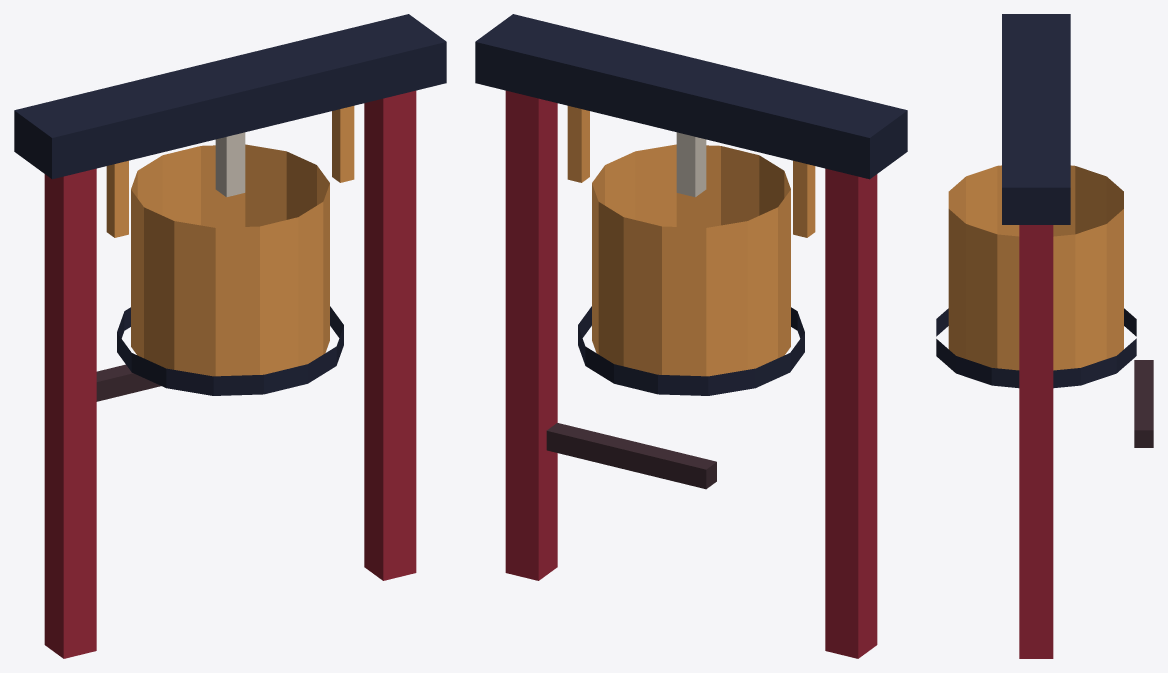
File: dojo_suspended_bell.obj
3 renders of one model, left to right at view 1: azimuth 30°, elevation 25°; view 2: azimuth 150°, elevation 25°; view 3: azimuth 270°, elevation 25°, orthographic. The views are drawn at different scales.
Parts seen in each view (by area): view 1: dojo_suspended_bell; view 2: dojo_suspended_bell; view 3: dojo_suspended_bell.
Part boxes in pixels (<box>): dojo_suspended_bell: <box>14,14,446,658</box>; dojo_suspended_bell: <box>475,14,907,658</box>; dojo_suspended_bell: <box>936,14,1153,658</box>.
Bounding box in the file's own units: 4.2 × 5.42 × 2.22.
